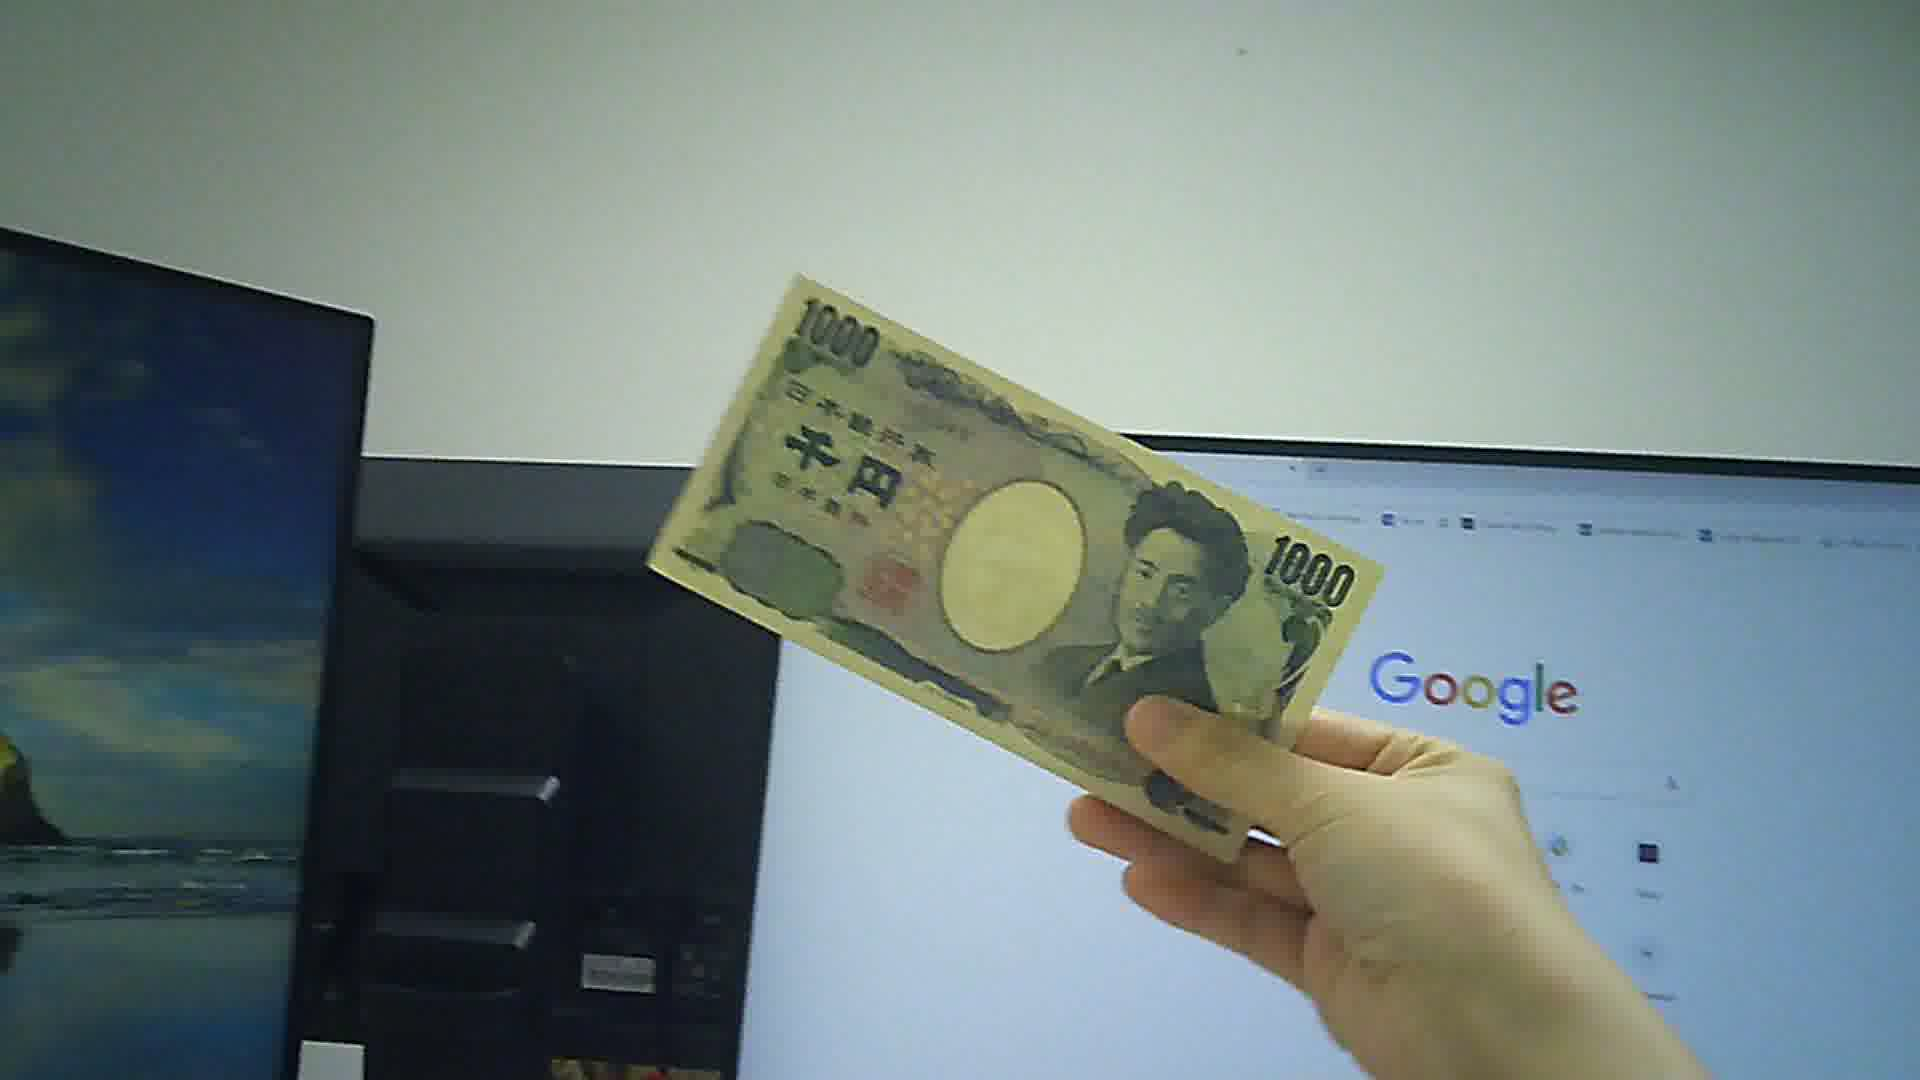1,000 Yen: (636, 257, 1367, 857)
